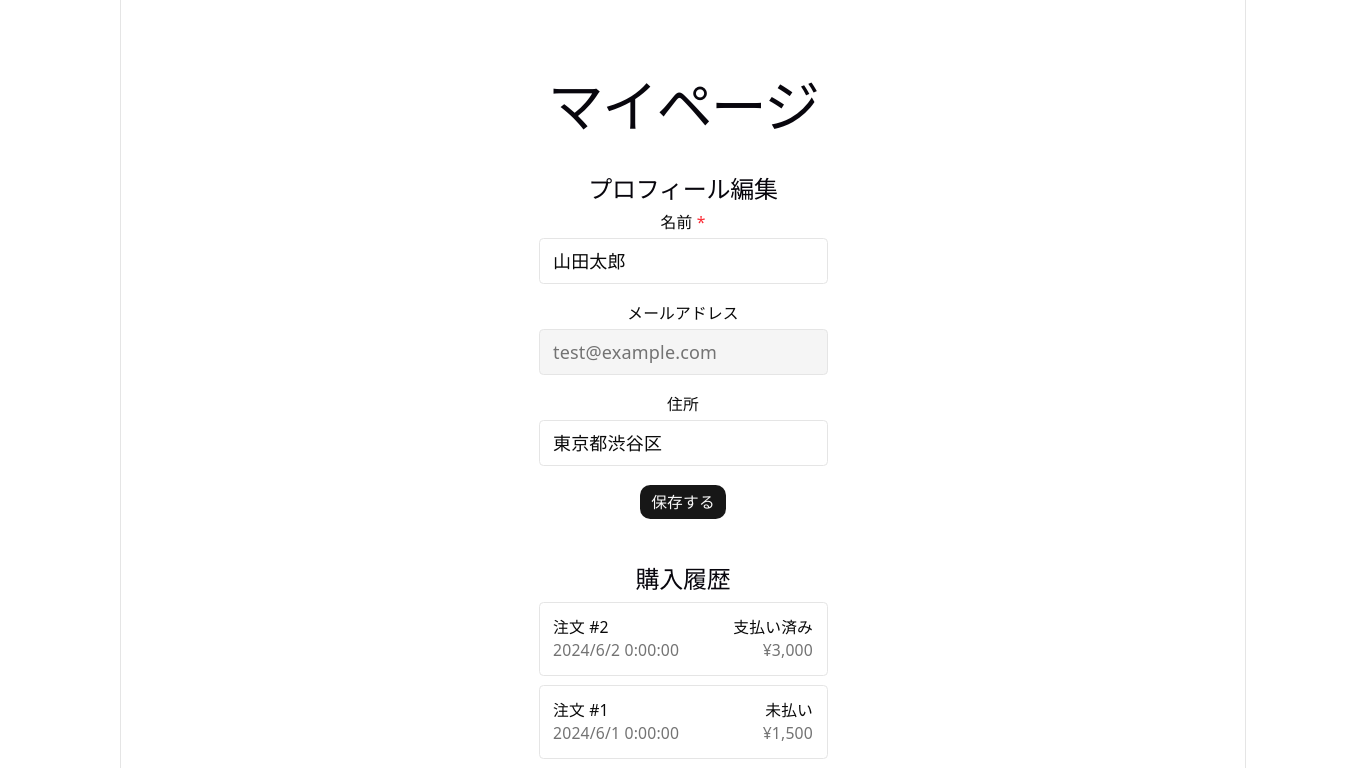
MyPage › プロフィール保存失敗時にエラーメッセージが表示されること
This screenshot has width=1366, height=768.
Check: the field showing "山田太郎" below "名前" is shown, box top-left (538, 238), bottom-right (828, 284)
Click the button "保存する" at (683, 502), box top-left (639, 484), bottom-right (727, 520)
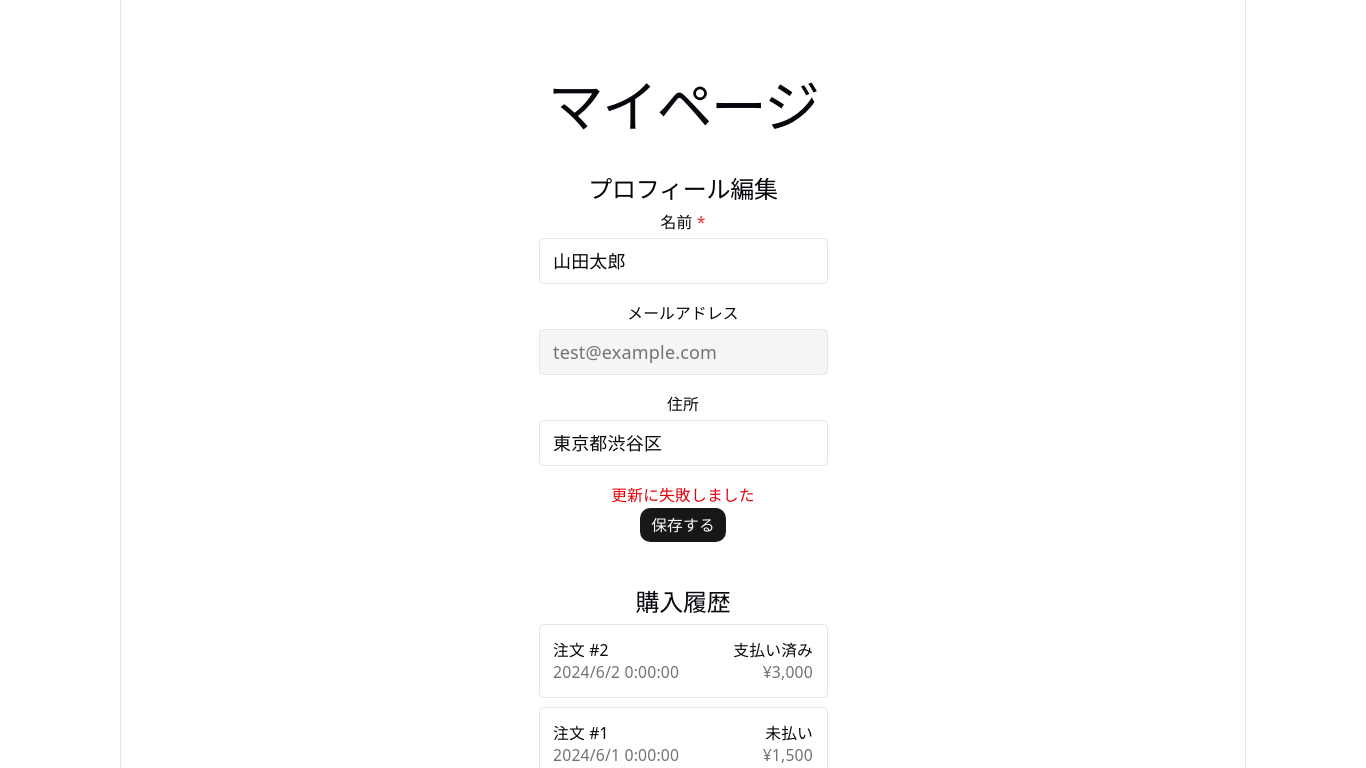
Check: the text "更新に失敗しました" is shown, box top-left (611, 484), bottom-right (755, 506)
